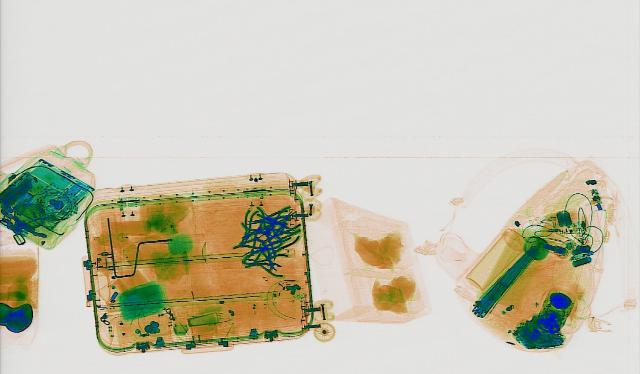Pliers: (240, 250, 290, 276)
